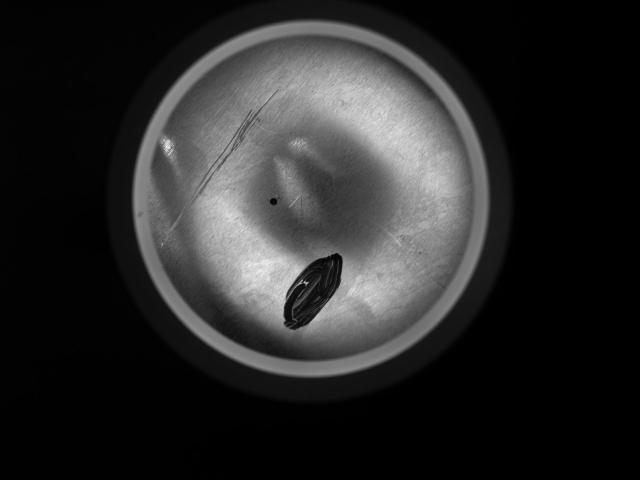ca_shang: (156, 82, 282, 249)
zang_wu: (282, 250, 345, 332)
zhen_kong: (266, 193, 280, 208)
